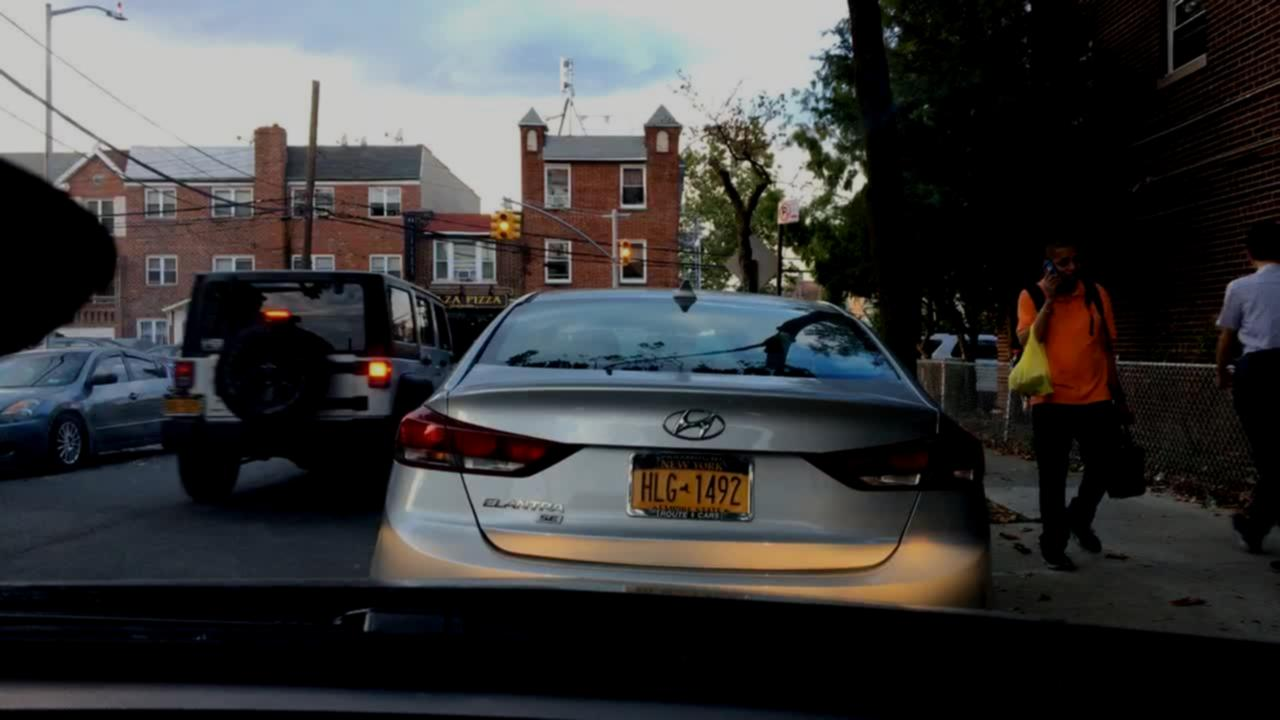Hyundai: (651, 394, 749, 456)
